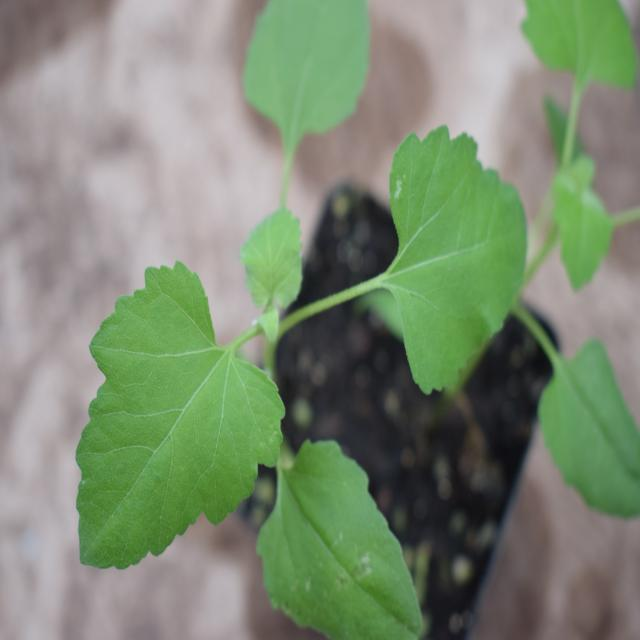cocklebur: (44, 71, 529, 604)
